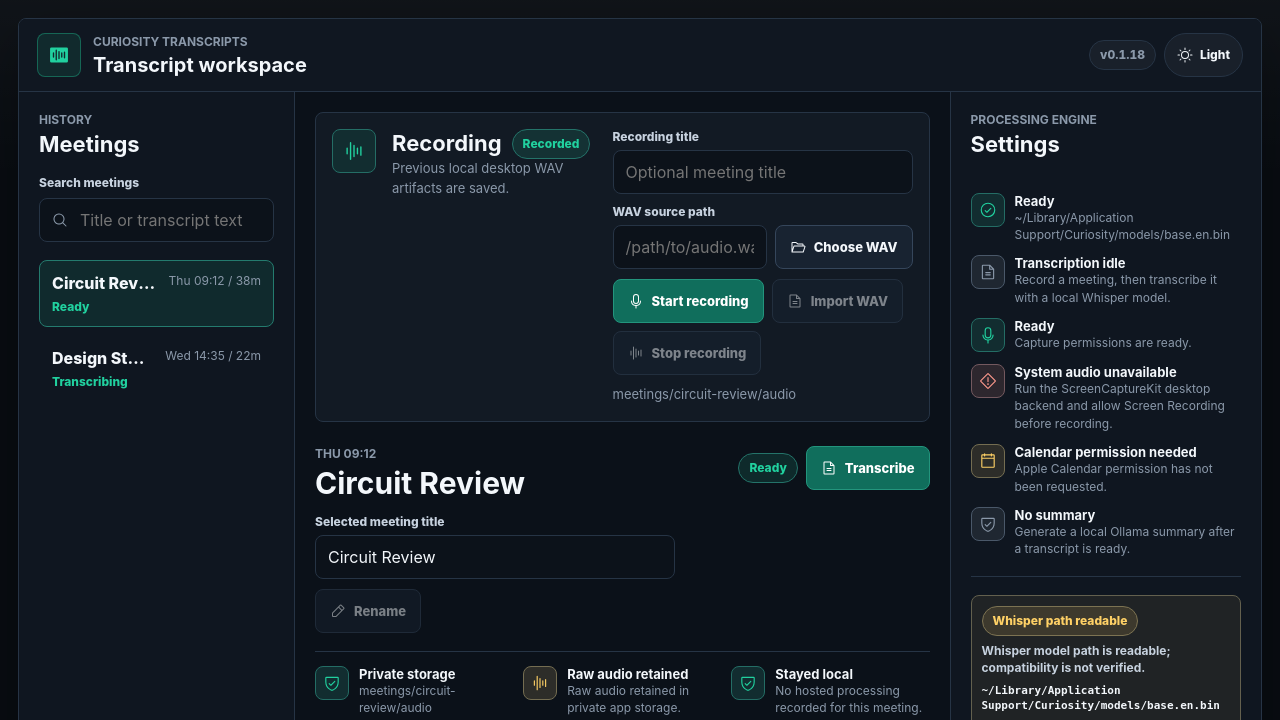
Test: desktop workspace shell › imports a user-provided WAV path with the optional title and replaces the snapshot
Step 1. Type "Customer call" into the field labelled "Recording title" → (762, 172), box [612, 150, 912, 194]
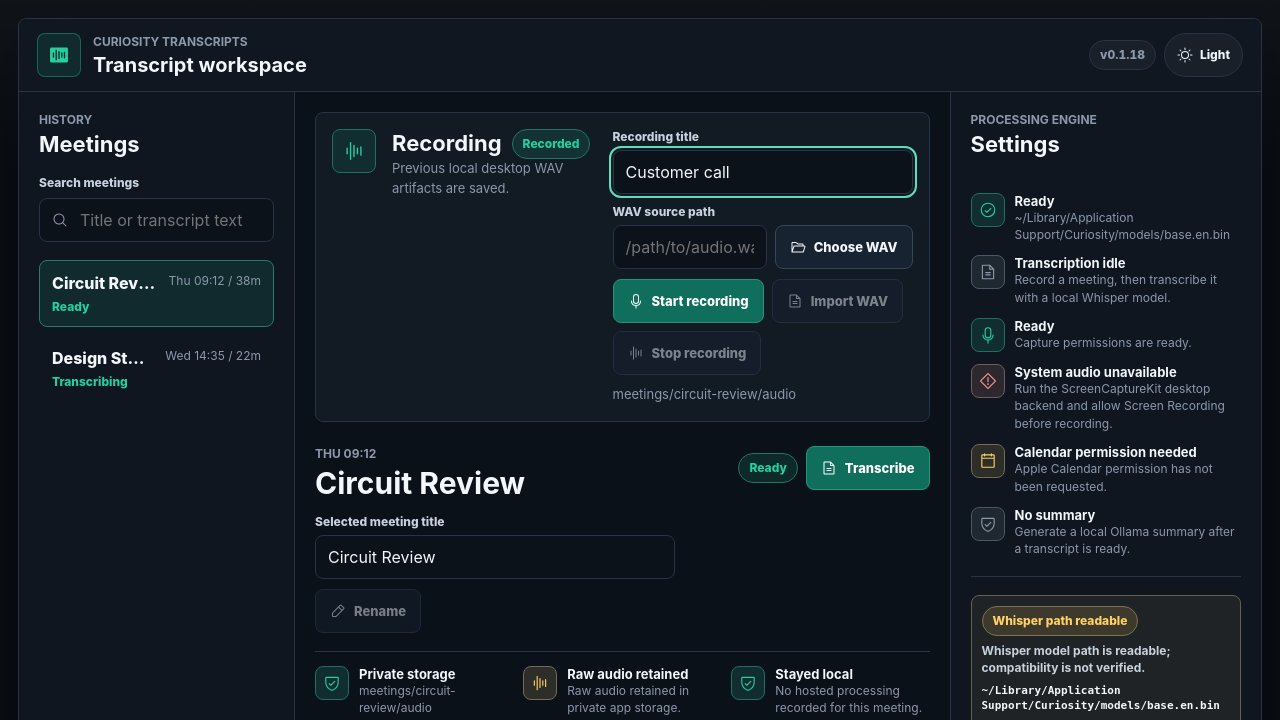
Step 2. Type "/Users/adrian/imports/customer-call.wav" into the field labelled "WAV source path" → (690, 247), box [612, 225, 767, 269]
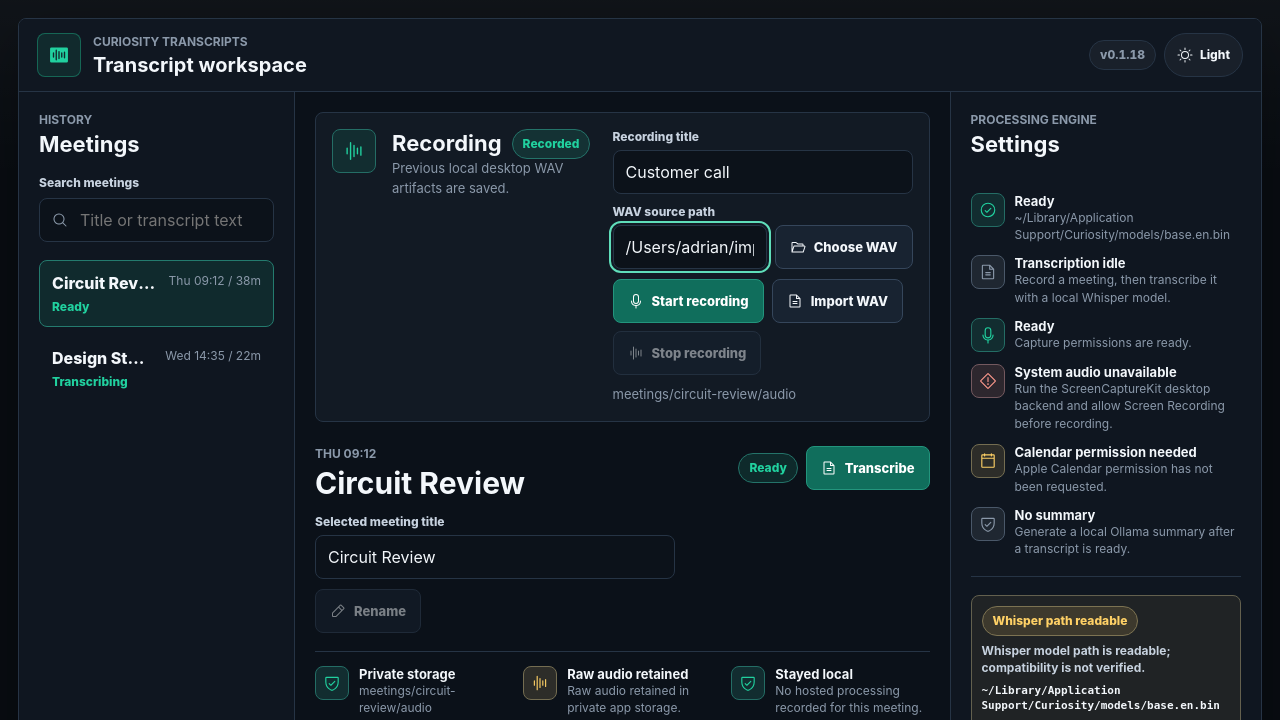
Step 3. Click the button "Import WAV" → (837, 301), box [772, 279, 903, 323]
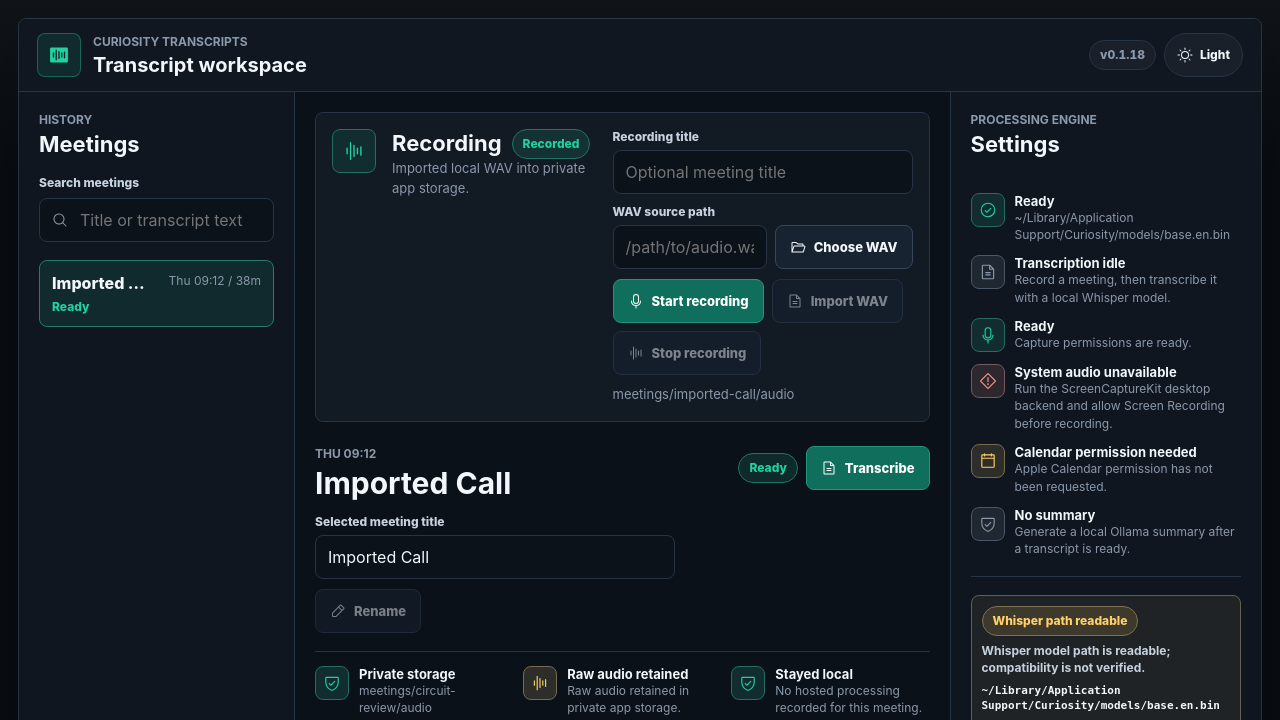
Now the heading "Imported Call" is shown, box [315, 464, 511, 500]
Now the text "Imported local WAV into private app storage." is shown, box [392, 159, 594, 198]
Now the text "meetings/imported-call/audio" is shown, box [612, 386, 794, 402]
